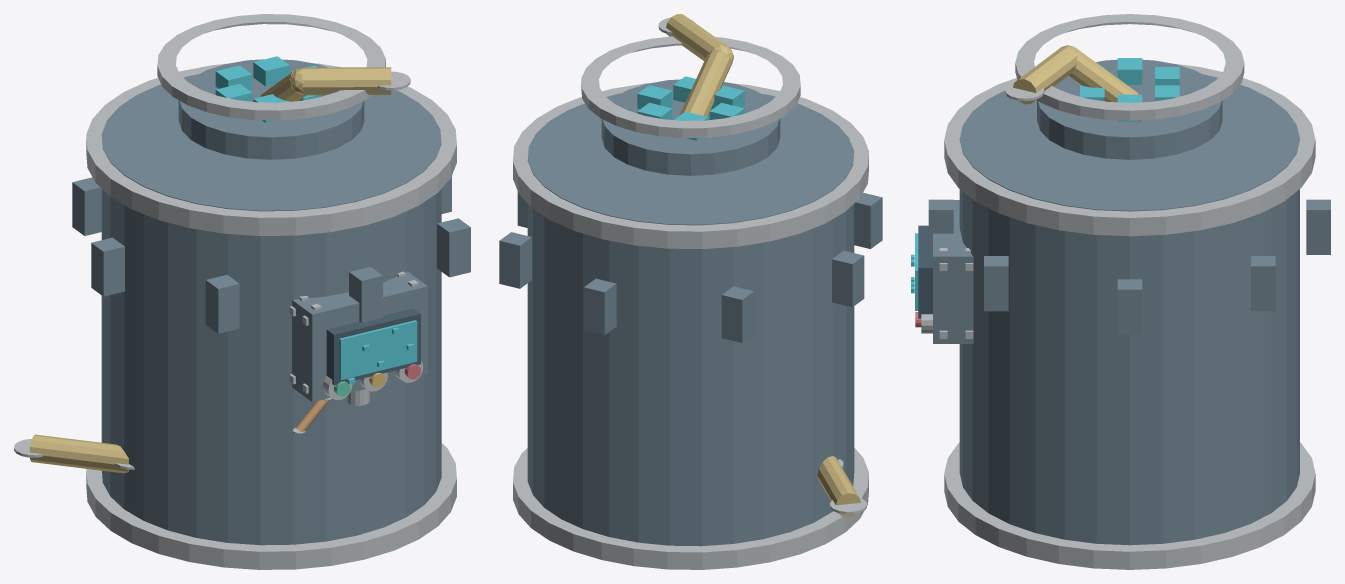
File: 34_L78_VirtualPorogenCartridge.glb
The picture shows the model from 3 angles, left to right: view 1: azimuth 30°, elevation 25°; view 2: azimuth 150°, elevation 25°; view 3: azimuth 270°, elevation 25°; orthographic projection. The views are drawn at different scales.
Parts seen in each view (by area): view 1: VirtualPorogenCartridge_Node_0000, VirtualPorogenCartridge_Node_0004, VirtualPorogenCartridge_Node_0003, VirtualPorogenCartridge_Node_0049, VirtualPorogenCartridge_Node_0048, VirtualPorogenCartridge_Node_0021, VirtualPorogenCartridge_Node_0031, VirtualPorogenCartridge_Node_0018, VirtualPorogenCartridge_Node_0014, VirtualPorogenCartridge_Node_0030, VirtualPorogenCartridge_Node_0008, VirtualPorogenCartridge_Node_0006 (+6 smaller); view 2: VirtualPorogenCartridge_Node_0000, VirtualPorogenCartridge_Node_0004, VirtualPorogenCartridge_Node_0003, VirtualPorogenCartridge_Node_0049, VirtualPorogenCartridge_Node_0048, VirtualPorogenCartridge_Node_0013, VirtualPorogenCartridge_Node_0010, VirtualPorogenCartridge_Node_0011, VirtualPorogenCartridge_Node_0012, VirtualPorogenCartridge_Node_0009, VirtualPorogenCartridge_Node_0008, VirtualPorogenCartridge_Node_0014 (+3 smaller); view 3: VirtualPorogenCartridge_Node_0000, VirtualPorogenCartridge_Node_0004, VirtualPorogenCartridge_Node_0003, VirtualPorogenCartridge_Node_0049, VirtualPorogenCartridge_Node_0048, VirtualPorogenCartridge_Node_0021, VirtualPorogenCartridge_Node_0014, VirtualPorogenCartridge_Node_0013, VirtualPorogenCartridge_Node_0005, VirtualPorogenCartridge_Node_0006, VirtualPorogenCartridge_Node_0011, VirtualPorogenCartridge_Node_0012 (+3 smaller).
Part boxes in pixels (box(x1,y1,x2,y2)): VirtualPorogenCartridge_Node_0000: box(101, 74, 441, 545); VirtualPorogenCartridge_Node_0004: box(86, 63, 456, 235); VirtualPorogenCartridge_Node_0003: box(86, 443, 456, 569); VirtualPorogenCartridge_Node_0049: box(178, 59, 364, 159); VirtualPorogenCartridge_Node_0048: box(157, 14, 385, 120); VirtualPorogenCartridge_Node_0021: box(292, 271, 427, 401); VirtualPorogenCartridge_Node_0031: box(339, 320, 417, 380); VirtualPorogenCartridge_Node_0018: box(29, 434, 128, 473); VirtualPorogenCartridge_Node_0014: box(302, 67, 391, 95); VirtualPorogenCartridge_Node_0030: box(326, 308, 420, 385); VirtualPorogenCartridge_Node_0008: box(205, 275, 239, 333); VirtualPorogenCartridge_Node_0006: box(437, 218, 470, 277); VirtualPorogenCartridge_Node_0000: box(527, 93, 854, 546); VirtualPorogenCartridge_Node_0004: box(513, 83, 868, 248); VirtualPorogenCartridge_Node_0003: box(513, 448, 868, 569); VirtualPorogenCartridge_Node_0049: box(601, 79, 780, 175); VirtualPorogenCartridge_Node_0048: box(581, 36, 800, 138); VirtualPorogenCartridge_Node_0013: box(679, 50, 732, 116); VirtualPorogenCartridge_Node_0010: box(721, 286, 754, 342); VirtualPorogenCartridge_Node_0011: box(584, 278, 616, 335); VirtualPorogenCartridge_Node_0012: box(499, 232, 531, 288); VirtualPorogenCartridge_Node_0009: box(832, 250, 864, 307); VirtualPorogenCartridge_Node_0008: box(854, 192, 882, 248); VirtualPorogenCartridge_Node_0014: box(666, 14, 730, 60); VirtualPorogenCartridge_Node_0000: box(959, 74, 1299, 545); VirtualPorogenCartridge_Node_0004: box(944, 63, 1315, 236); VirtualPorogenCartridge_Node_0003: box(944, 442, 1315, 569); VirtualPorogenCartridge_Node_0049: box(1037, 59, 1222, 159); VirtualPorogenCartridge_Node_0048: box(1015, 14, 1244, 120); VirtualPorogenCartridge_Node_0021: box(933, 200, 973, 343); VirtualPorogenCartridge_Node_0014: box(1013, 46, 1077, 104); VirtualPorogenCartridge_Node_0013: box(1068, 48, 1138, 102); VirtualPorogenCartridge_Node_0005: box(1117, 279, 1142, 334); VirtualPorogenCartridge_Node_0006: box(984, 256, 1008, 311); VirtualPorogenCartridge_Node_0011: box(1306, 199, 1330, 254); VirtualPorogenCartridge_Node_0012: box(1251, 256, 1275, 311).
Size of the model in its own units: 1.46 by 1.59 by 1.36.
